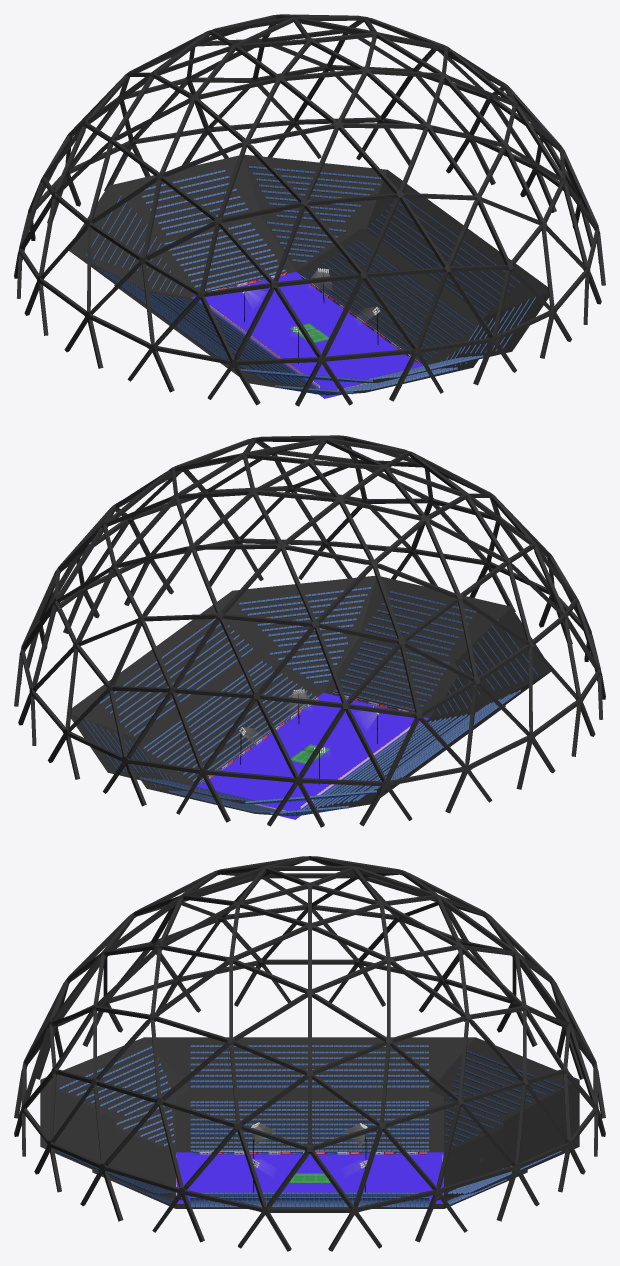
File: stadium.glb
3 views of the same model, one above another, from view 1: azimuth 30°, elevation 25°; view 2: azimuth 150°, elevation 25°; view 3: azimuth 270°, elevation 25° (orthographic).
Parts seen in each view (by area): view 1: court; view 2: court; view 3: court.
Boxes of the visible parts, left/top/right/bottom form: court: left=14, top=14, right=605, bottom=406; court: left=14, top=435, right=605, bottom=827; court: left=14, top=856, right=605, bottom=1251.
Size of the model in its own units: 425 by 233 by 425.
Materials: 10 (6 with a texture image).
